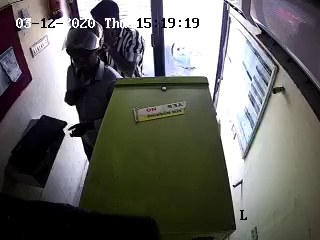helmet: (58, 16, 112, 70)
